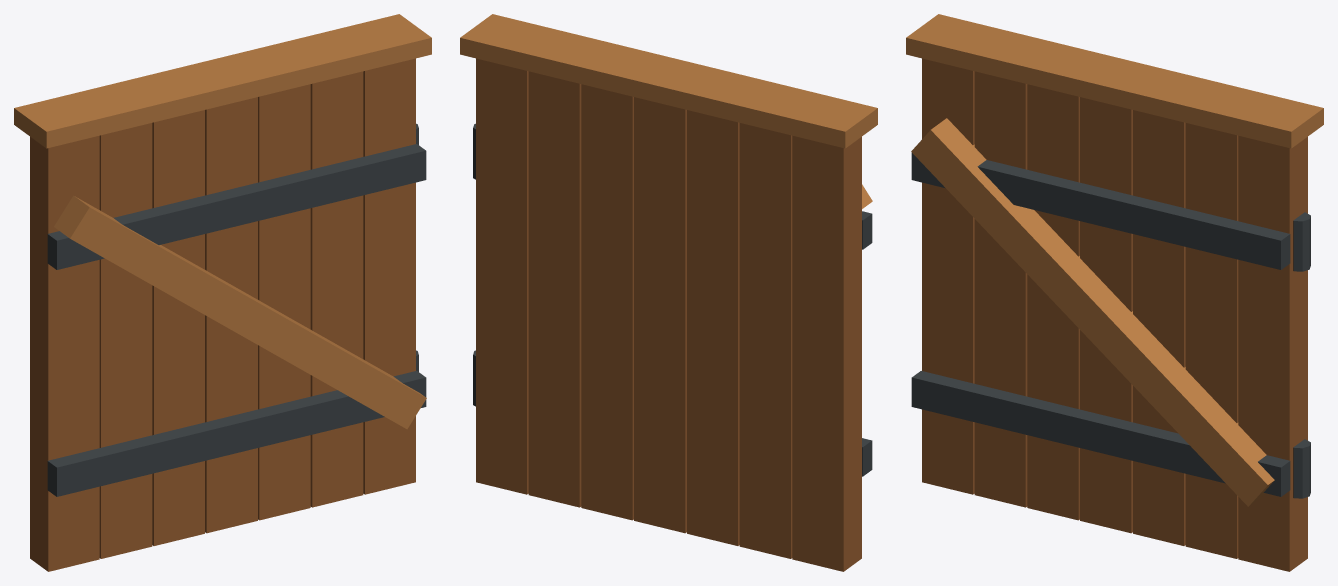
File: 856_hinged_stable_lower_door_leaf.fbx
The picture shows the model from 3 angles, left to right: view 1: azimuth 30°, elevation 25°; view 2: azimuth 150°, elevation 25°; view 3: azimuth 330°, elevation 25°; orthographic projection.
Visible parts, largest first — view 1: 856_hinged_stable_lower_door_leaf; view 2: 856_hinged_stable_lower_door_leaf; view 3: 856_hinged_stable_lower_door_leaf.
Boxes of the visible parts, left/top/right/bottom form: 856_hinged_stable_lower_door_leaf: left=14, top=14, right=431, bottom=571; 856_hinged_stable_lower_door_leaf: left=460, top=14, right=877, bottom=571; 856_hinged_stable_lower_door_leaf: left=906, top=14, right=1323, bottom=571.
Size of the model in its own units: 0.965 by 1.06 by 0.18.
1 material, 1 textured.
